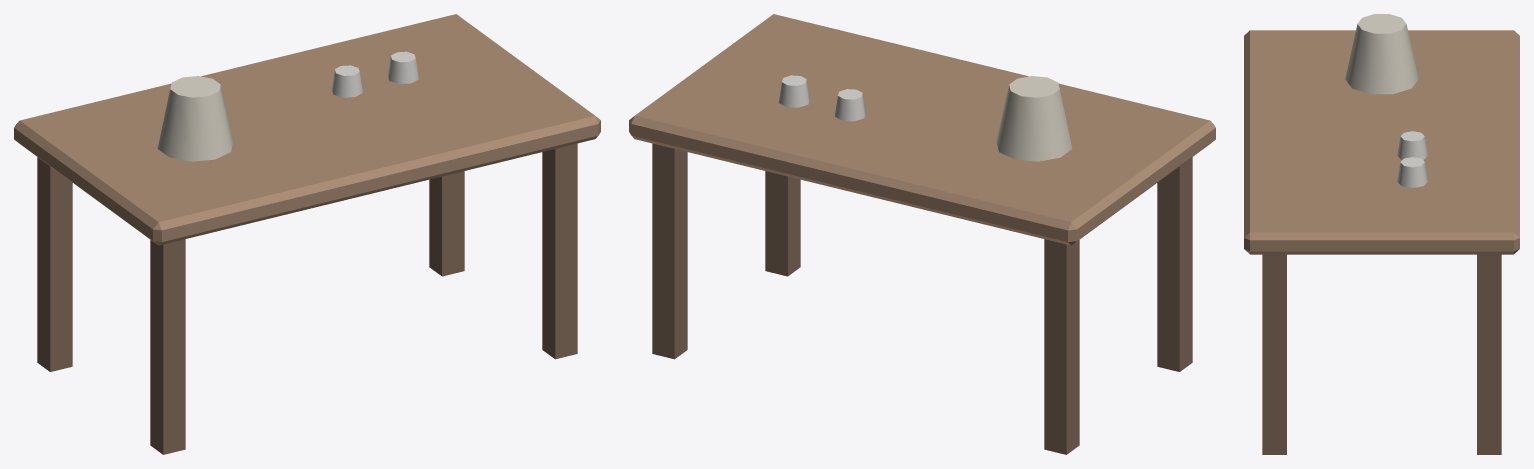
The model's file is table.glb.
The picture shows the model from 3 angles, left to right: view 1: azimuth 30°, elevation 25°; view 2: azimuth 150°, elevation 25°; view 3: azimuth 270°, elevation 25°; orthographic projection. The views are drawn at different scales.
Visible parts, largest first — view 1: Table; view 2: Table; view 3: Table.
Part boxes in pixels (x1,y1,x2,y2): Table: [14, 14, 600, 454]; Table: [629, 14, 1215, 454]; Table: [1244, 14, 1519, 454].
Size of what is drawn, in the model's own units: 1.6 by 1.02 by 0.9.
